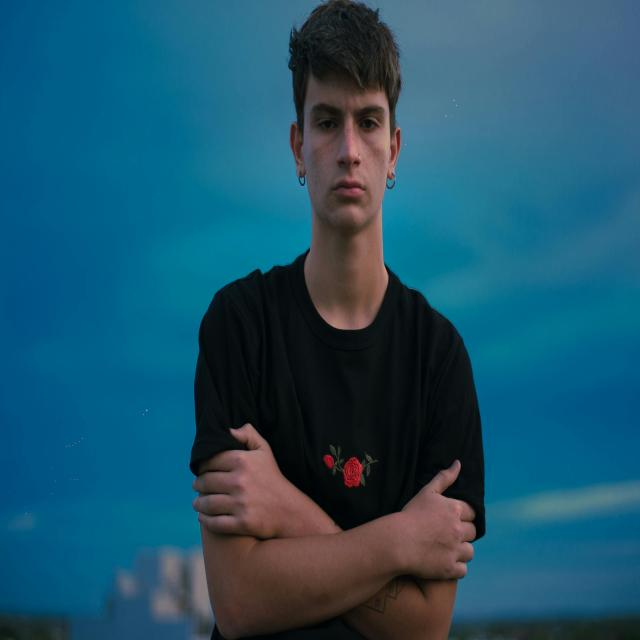mobile_phonerotation: (189, 1, 487, 637)
